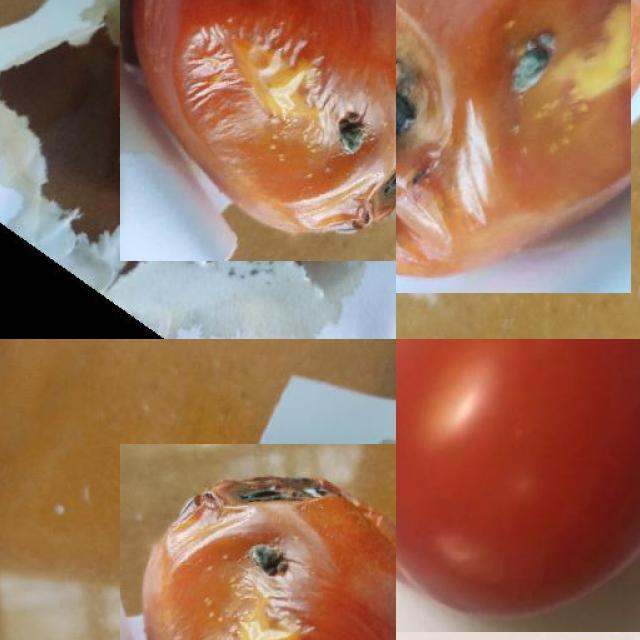Fresh Tomato: (396, 339, 640, 630)
Rotten Tomato: (108, 0, 396, 249), (396, 0, 640, 276), (112, 450, 396, 640)
